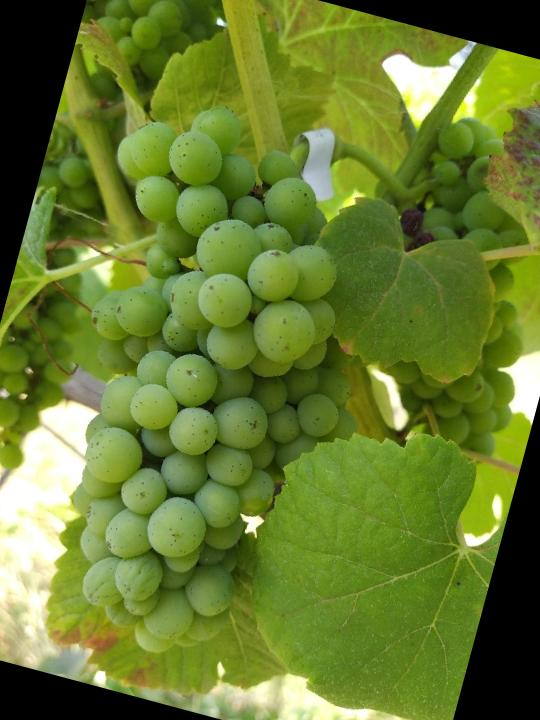grape: (0, 81, 435, 698)
